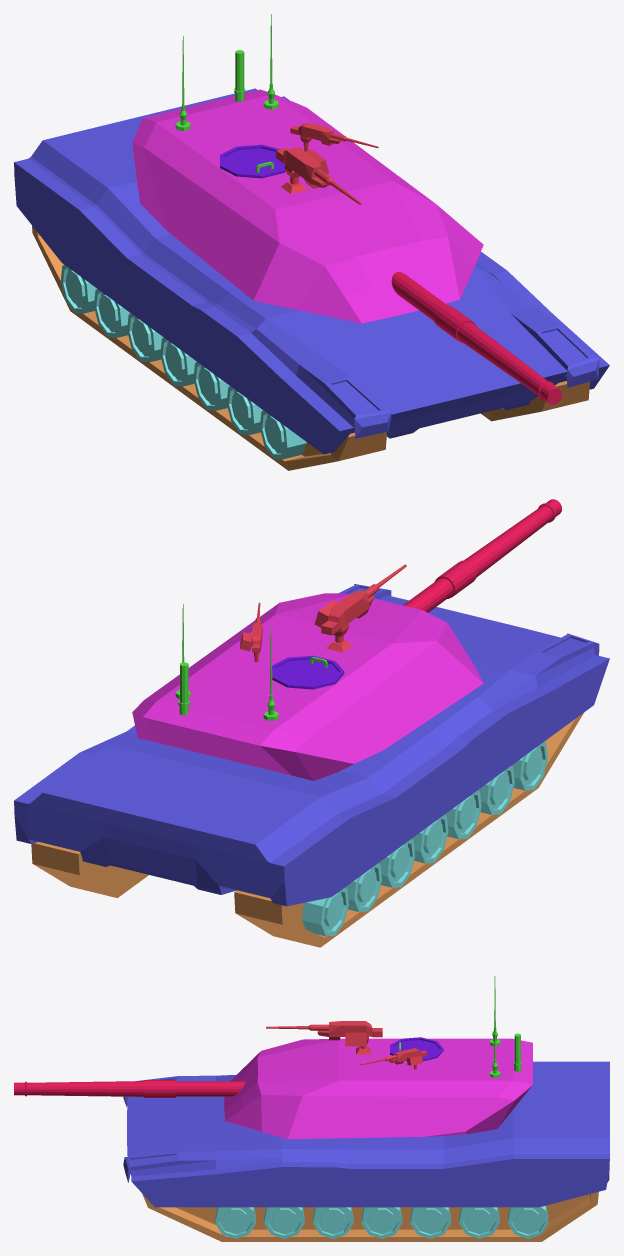
File: M1_Abrams.fbx
3 renders of one model, top to bottom at view 1: azimuth 30°, elevation 25°; view 2: azimuth 150°, elevation 25°; view 3: azimuth 270°, elevation 25°, orthographic. The views are drawn at different scales.
Parts seen in each view (by area): view 1: body, head, Cylinder.003, Plane, pipi, Cube.001, Cylinder.002, Cube.002, Cylinder.001; view 2: body, head, Cylinder.003, Plane, pipi, Cube.001, Cylinder.002, Cube.002; view 3: body, head, Cylinder.003, Plane, pipi, Cube.001, Cylinder.002, Cube.002, Cylinder.001.
Boxes of the visible parts, x1=… form: body: x1=14, y1=88, x2=609, y2=454; head: x1=132, y1=89, x2=483, y2=323; Cylinder.003: x1=60, y1=264, x2=306, y2=459; Plane: x1=32, y1=226, x2=589, y2=470; pipi: x1=391, y1=271, x2=561, y2=404; Cube.001: x1=276, y1=147, x2=361, y2=204; Cylinder.002: x1=220, y1=144, x2=285, y2=178; Cube.002: x1=290, y1=123, x2=378, y2=151; Cylinder.001: x1=175, y1=14, x2=278, y2=131; body: x1=14, y1=584, x2=609, y2=906; head: x1=132, y1=593, x2=483, y2=780; Cylinder.003: x1=302, y1=741, x2=547, y2=936; Plane: x1=31, y1=713, x2=583, y2=947; pipi: x1=403, y1=499, x2=561, y2=612; Cube.001: x1=314, y1=564, x2=406, y2=652; Cylinder.002: x1=272, y1=655, x2=344, y2=689; Cube.002: x1=240, y1=602, x2=262, y2=661; body: x1=123, y1=1061, x2=609, y2=1207; head: x1=224, y1=1038, x2=532, y2=1139; Cylinder.003: x1=215, y1=1205, x2=548, y2=1238; Plane: x1=142, y1=1192, x2=598, y2=1241; pipi: x1=14, y1=1080, x2=245, y2=1097; Cube.001: x1=266, y1=1021, x2=382, y2=1054; Cylinder.002: x1=390, y1=1037, x2=443, y2=1061; Cube.002: x1=360, y1=1048, x2=427, y2=1069; Cylinder.001: x1=490, y1=976, x2=500, y2=1077.
Bounding box in the file's own units: 566 × 559 × 1473.
